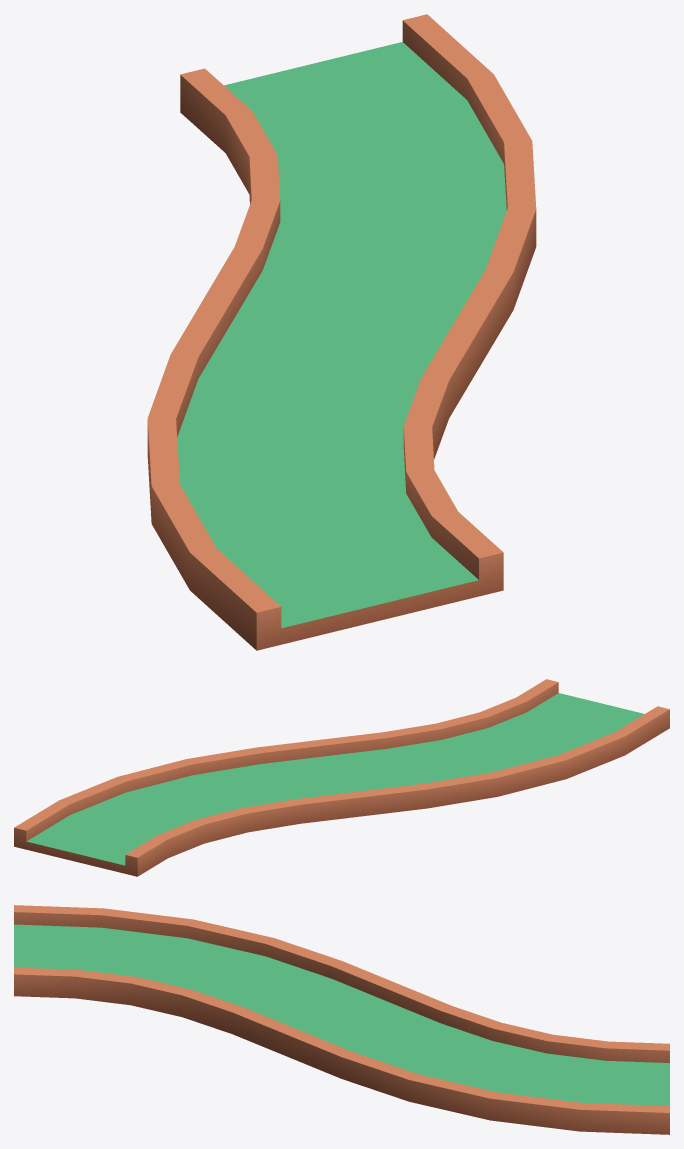
File: spline-default-curve.glb
3 renders of one model, top to bottom at view 1: azimuth 30°, elevation 25°; view 2: azimuth 150°, elevation 25°; view 3: azimuth 270°, elevation 25°, orthographic. The views are drawn at different scales.
Visible parts, largest first — view 1: spline-default-curve; view 2: spline-default-curve; view 3: spline-default-curve.
Part boxes in pixels (bbox=[...]): spline-default-curve: bbox=[147, 14, 536, 650]; spline-default-curve: bbox=[14, 679, 669, 876]; spline-default-curve: bbox=[14, 905, 669, 1134].
Bounding box in the file's own units: 3 × 0.1467 × 4.
1 material, 1 textured.
